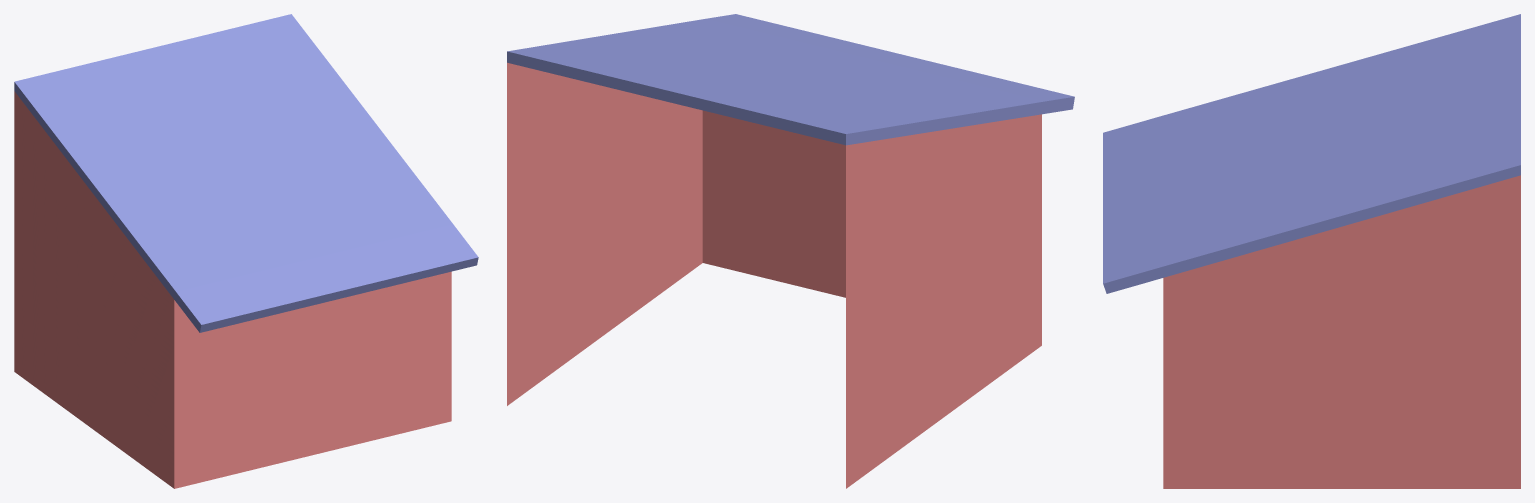
The model's file is SlantRoof.FBX.
The picture shows the model from 3 angles, left to right: view 1: azimuth 30°, elevation 25°; view 2: azimuth 150°, elevation 25°; view 3: azimuth 270°, elevation 25°; orthographic projection. The views are drawn at different scales.
Parts seen in each view (by area): view 1: Object077; view 2: Object077; view 3: Object077.
Part boxes in pixels (x1,y1,x2,y2): Object077: (14, 14, 478, 488); Object077: (507, 14, 1074, 488); Object077: (1103, 14, 1520, 488).
Size of the model in its own units: 300 by 300 by 351.
